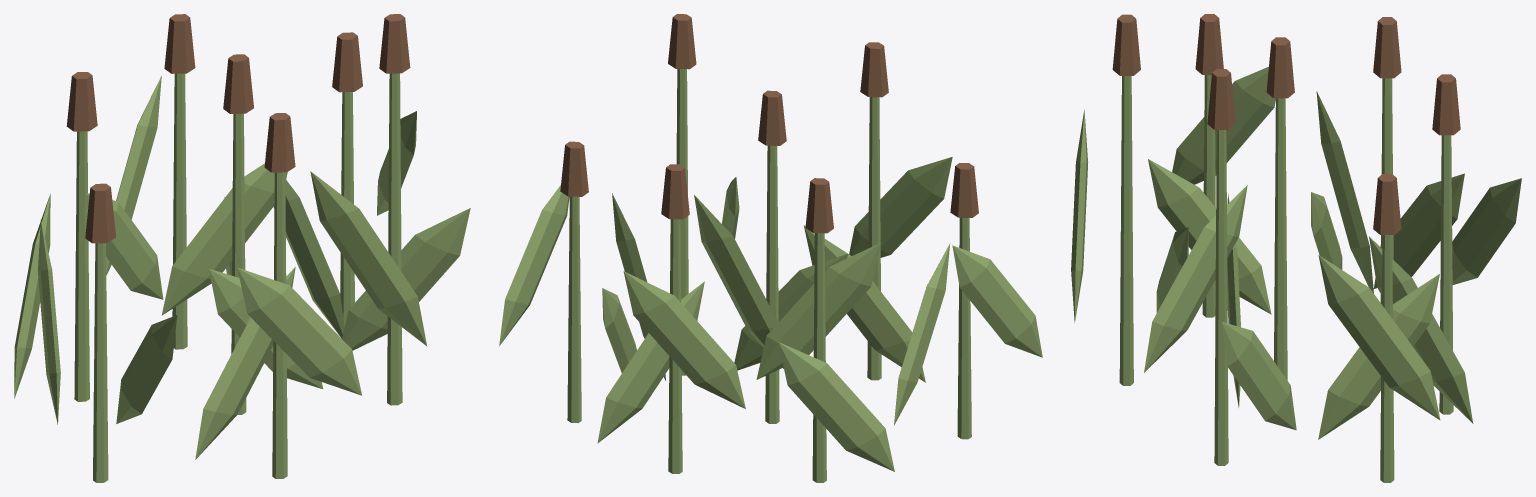
The model's file is SM_MarshwardReedClump_01.fbx.
3 views of the same model, side by side, from view 1: azimuth 30°, elevation 25°; view 2: azimuth 150°, elevation 25°; view 3: azimuth 270°, elevation 25° (orthographic). The views are drawn at different scales.
Parts seen in each view (by area): view 1: SM_MarshwardReedClump_01; view 2: SM_MarshwardReedClump_01; view 3: SM_MarshwardReedClump_01.
Boxes of the visible parts, box(x1,y1,x2,y2) form: SM_MarshwardReedClump_01: box(14, 14, 470, 482); SM_MarshwardReedClump_01: box(499, 14, 1042, 482); SM_MarshwardReedClump_01: box(1071, 14, 1521, 482).
Size of the model in its own units: 260 by 220 by 210.
